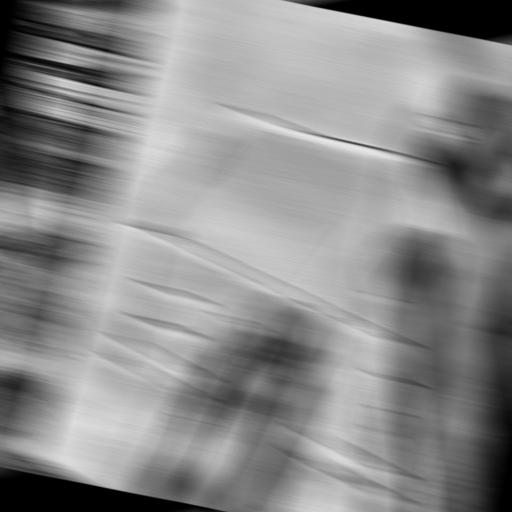bottom_right: (17, 441, 45, 461)
house: (62, 21, 512, 512)
